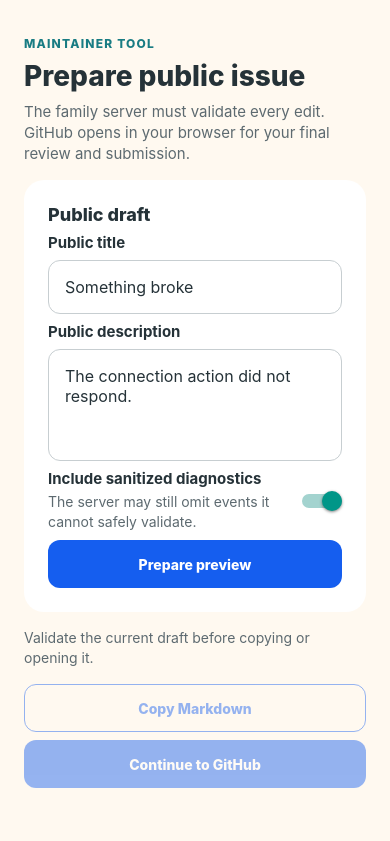
Test: maintainer-only public feedback handoff › opens the encoded server-validated preview and only then marks EXPORTED
The image size is (390, 841).
Click the button "Prepare preview" at (195, 564), box [48,540,342,588]
(page scrolled)
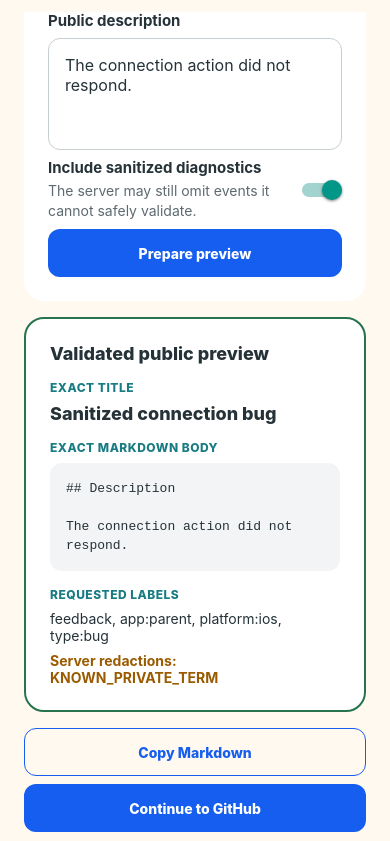
Expected: the text "Sanitized connection bug" is shown, [50,403,276,424]
Click the button "Continue to GitHub" at (195, 808), box [24,784,366,832]
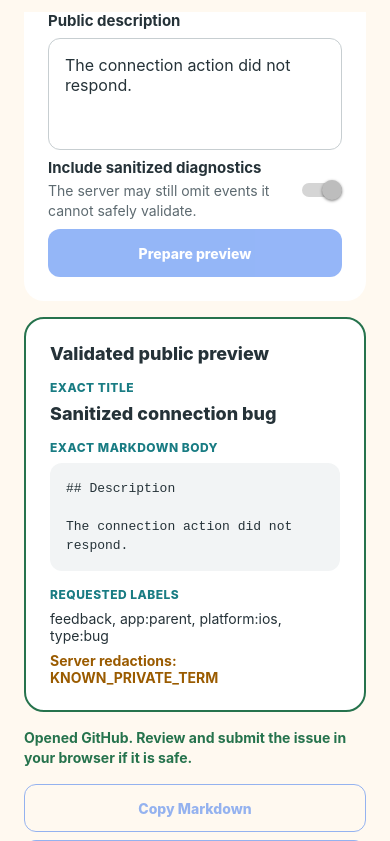
Expected: the text "Sanitized connection bug" is shown, [50,403,276,424]
Expected: the text "Opened GitHub" is shown, [24,729,349,766]
Expected: the button with aria-label "Copy validated Markdown" is disabled, [24,784,366,832]
